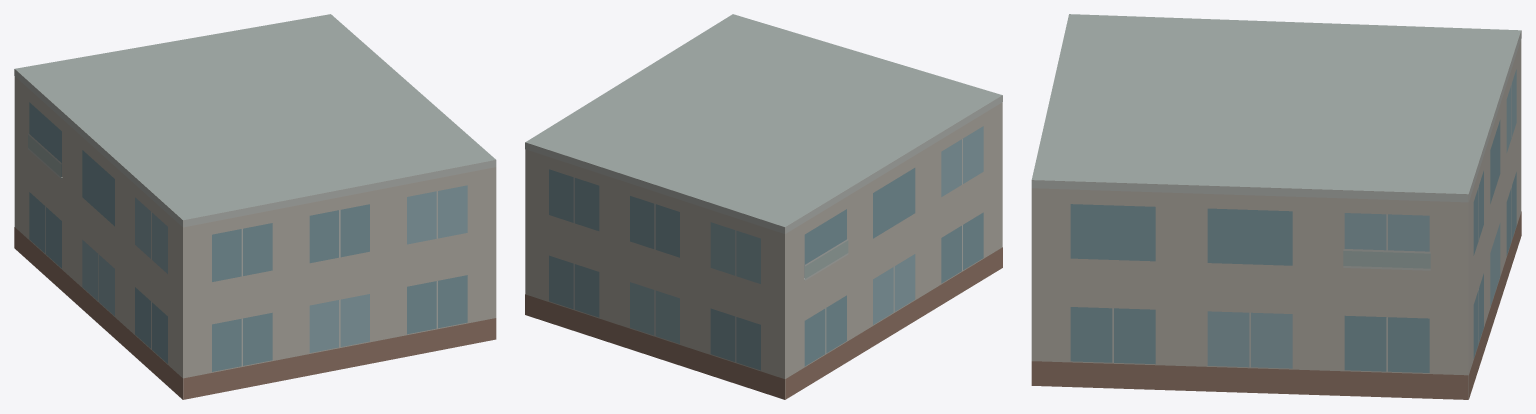
Rendered from survey-upis-32804596.glb.
3 renders of one model, left to right at view 1: azimuth 30°, elevation 25°; view 2: azimuth 150°, elevation 25°; view 3: azimuth 270°, elevation 25°, orthographic. The views are drawn at different scales.
Parts seen in each view (by area): view 1: survey-upis-32804596.tmp; view 2: survey-upis-32804596.tmp; view 3: survey-upis-32804596.tmp.
Boxes of the visible parts, x1,y1,x2,y2 form: survey-upis-32804596.tmp: [14, 14, 496, 399]; survey-upis-32804596.tmp: [525, 14, 1002, 399]; survey-upis-32804596.tmp: [1031, 14, 1521, 399].
Size of the model in its own units: 11.47 by 6.1 by 13.17.
